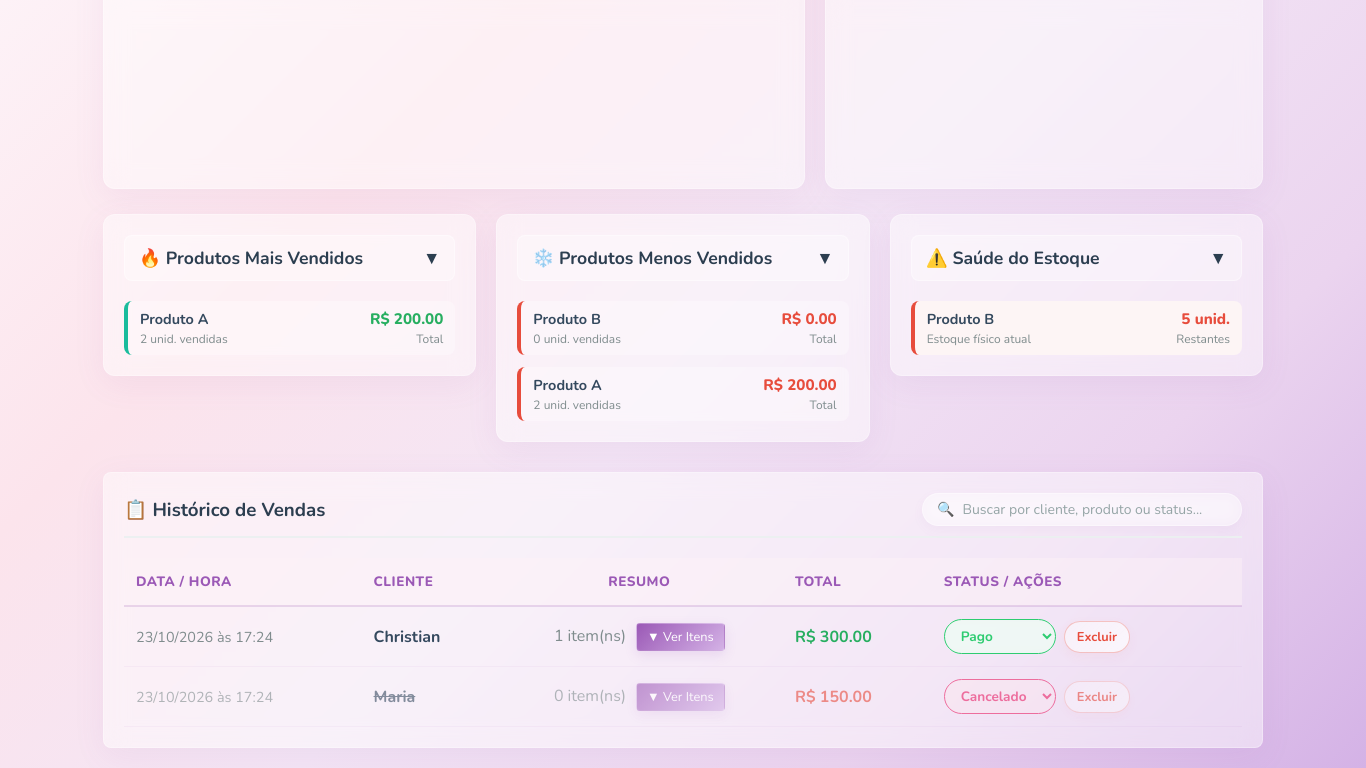
Test: Componente Relatorios - Testes de Dashboard › Deve filtrar a lista de vendas por produto do item de maneira case-insensitive na busca
(page scrolled)
Expected: the text "Christian" is shown, left=362, top=606, right=496, bottom=666
Note: Busca por "produto a" que está no item do pedido do Christian
Step 1. Type "produto a" into the field with placeholder "Buscar por cliente, produto ou status..." → point(1095, 510), box left=962, top=500, right=1227, bottom=519
(page scrolled)
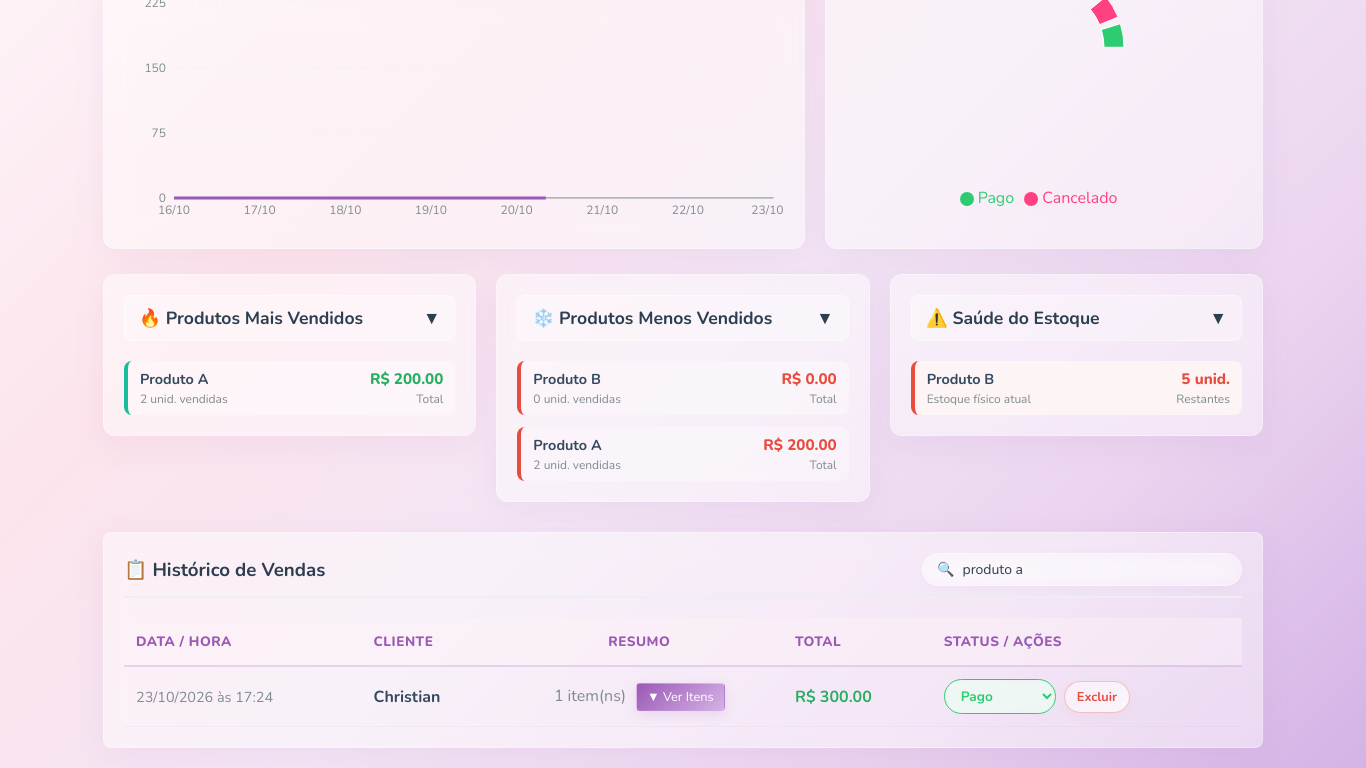
Expected: the text "Christian" is shown, left=362, top=666, right=496, bottom=726
Result: the text "Maria" is gone
